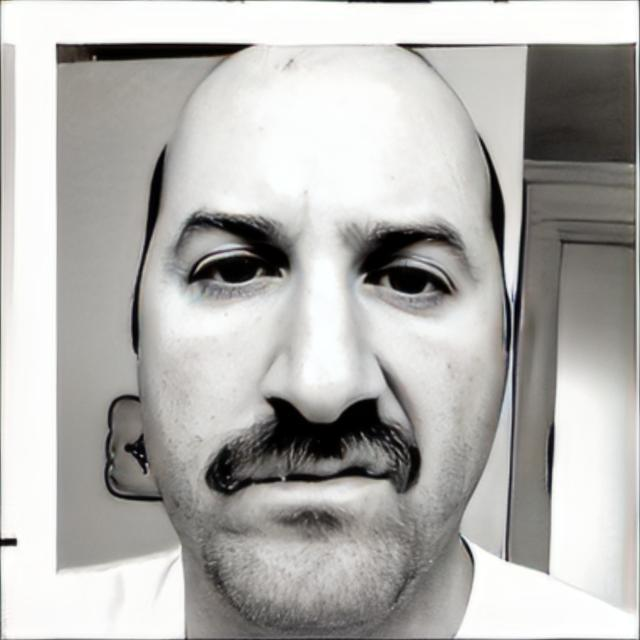anger: (140, 101, 508, 633)
